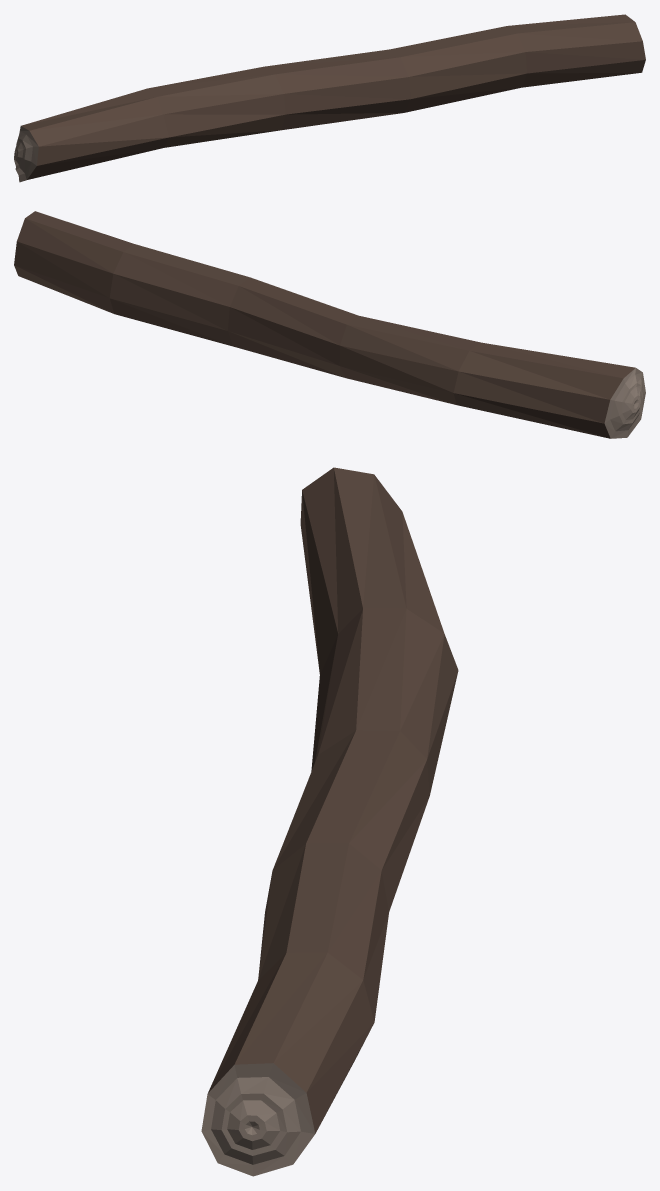
The model's file is wooden_stick_2.fbx.
The picture shows the model from 3 angles, top to bottom: view 1: azimuth 30°, elevation 25°; view 2: azimuth 150°, elevation 25°; view 3: azimuth 270°, elevation 25°; orthographic projection. The views are drawn at different scales.
Parts seen in each view (by area): view 1: Wooden_Stick_II; view 2: Wooden_Stick_II; view 3: Wooden_Stick_II.
Part boxes in pixels (<box>): Wooden_Stick_II: <box>14,14,645,182</box>; Wooden_Stick_II: <box>14,211,645,438</box>; Wooden_Stick_II: <box>201,467,458,1176</box>.
Bounding box in the file's own units: 71.46 × 13.35 × 8.04.
